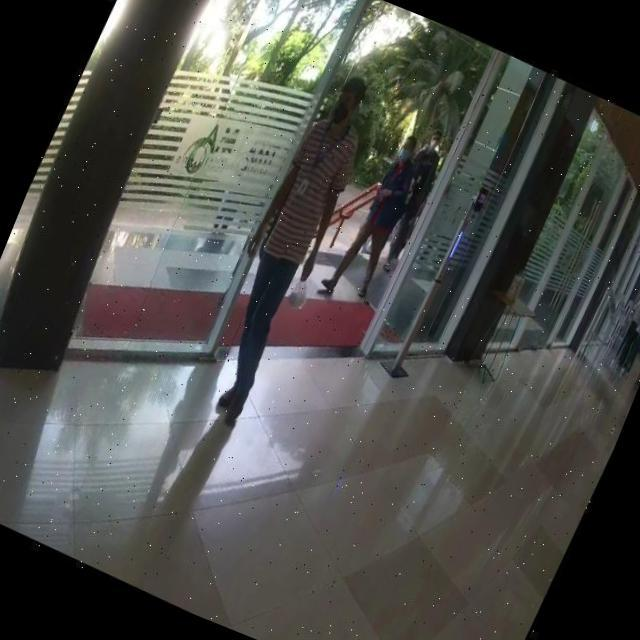person: (178, 64, 392, 435), (323, 121, 437, 308), (364, 123, 455, 278)
